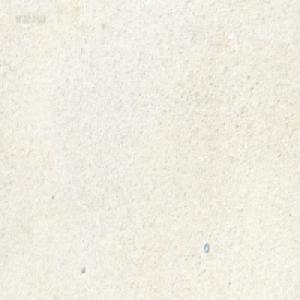Washer: (203, 242, 209, 252)
